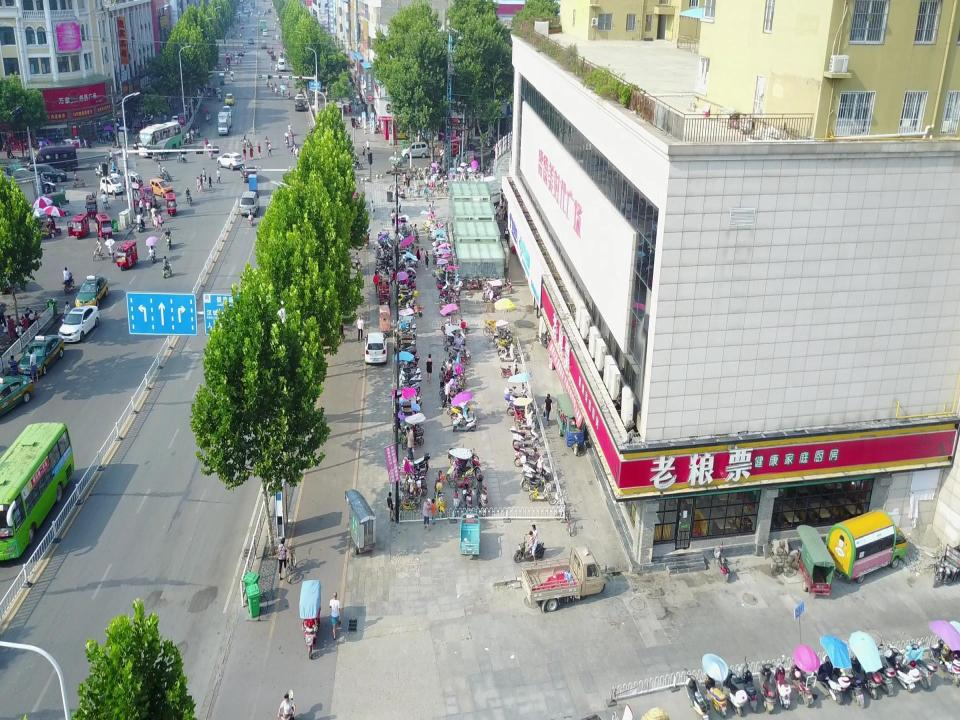bus: (0, 421, 74, 559), (136, 122, 182, 157), (260, 19, 266, 30)
car: (19, 334, 65, 376), (59, 305, 98, 342), (0, 377, 33, 420), (75, 275, 108, 308), (26, 164, 66, 183), (365, 332, 387, 364), (216, 152, 244, 171), (148, 179, 174, 198), (99, 176, 123, 196), (434, 483, 445, 518), (240, 164, 257, 182), (220, 106, 232, 119), (224, 94, 234, 106), (295, 101, 305, 112), (294, 94, 304, 103), (171, 115, 179, 126), (247, 37, 255, 45), (262, 28, 267, 37), (260, 41, 266, 48)
truck: (521, 547, 606, 612), (217, 111, 229, 137)
van: (830, 513, 908, 586), (27, 146, 78, 172), (240, 192, 260, 216), (402, 142, 428, 159), (278, 58, 286, 72)
